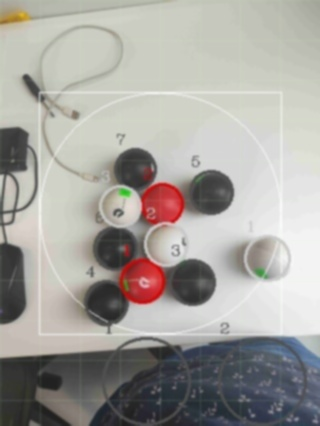Pelota blanca: (36, 23, 123, 89), (241, 233, 291, 283), (143, 220, 190, 267), (98, 182, 142, 227)
Pelota negra: (169, 257, 217, 307), (82, 278, 129, 325), (188, 169, 235, 216), (92, 225, 137, 272), (113, 148, 158, 190)
Pelota roja: (116, 257, 166, 304), (140, 180, 185, 224)
